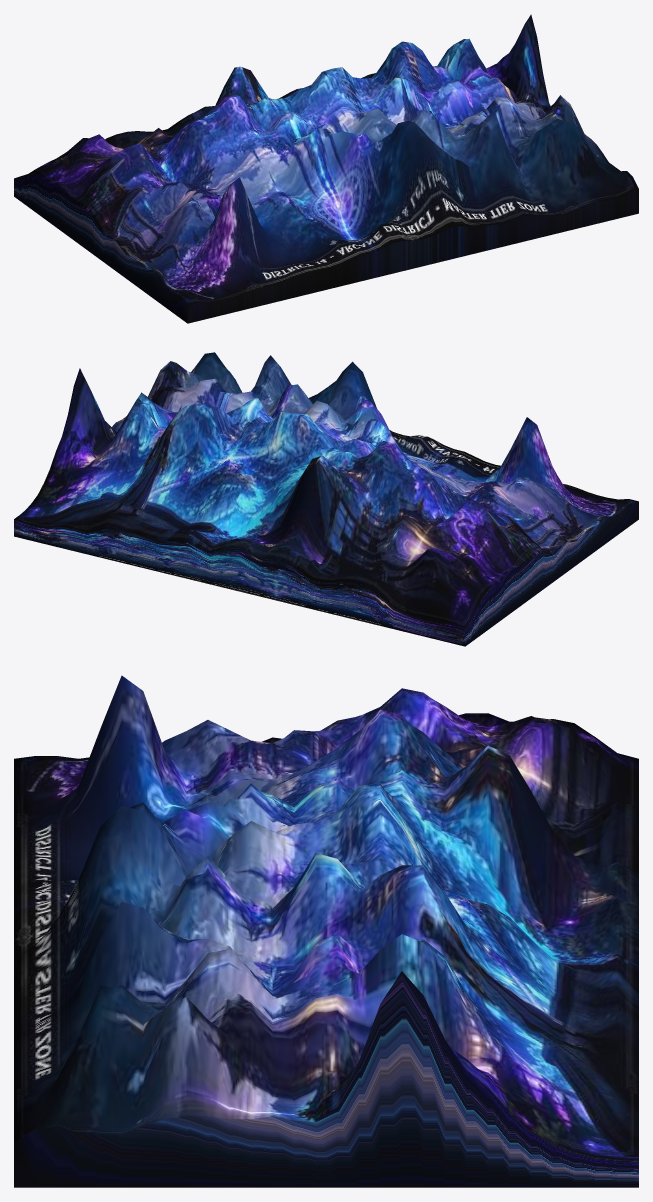
The model's file is DISTRICT_14_Arcane_District.glb.
3 renders of one model, top to bottom at view 1: azimuth 30°, elevation 25°; view 2: azimuth 150°, elevation 25°; view 3: azimuth 270°, elevation 25°, orthographic. The views are drawn at different scales.
Parts seen in each view (by area): view 1: DISTRICT_14_Arcane_District; view 2: DISTRICT_14_Arcane_District; view 3: DISTRICT_14_Arcane_District.
Part boxes in pixels (x1=…): DISTRICT_14_Arcane_District: x1=14, y1=14, x2=638, y2=323; DISTRICT_14_Arcane_District: x1=14, y1=352, x2=638, y2=646; DISTRICT_14_Arcane_District: x1=14, y1=675, x2=638, y2=1187.
Size of the model in its own units: 2 by 0.51 by 1.33.
Materials: 1 (1 with a texture image).
